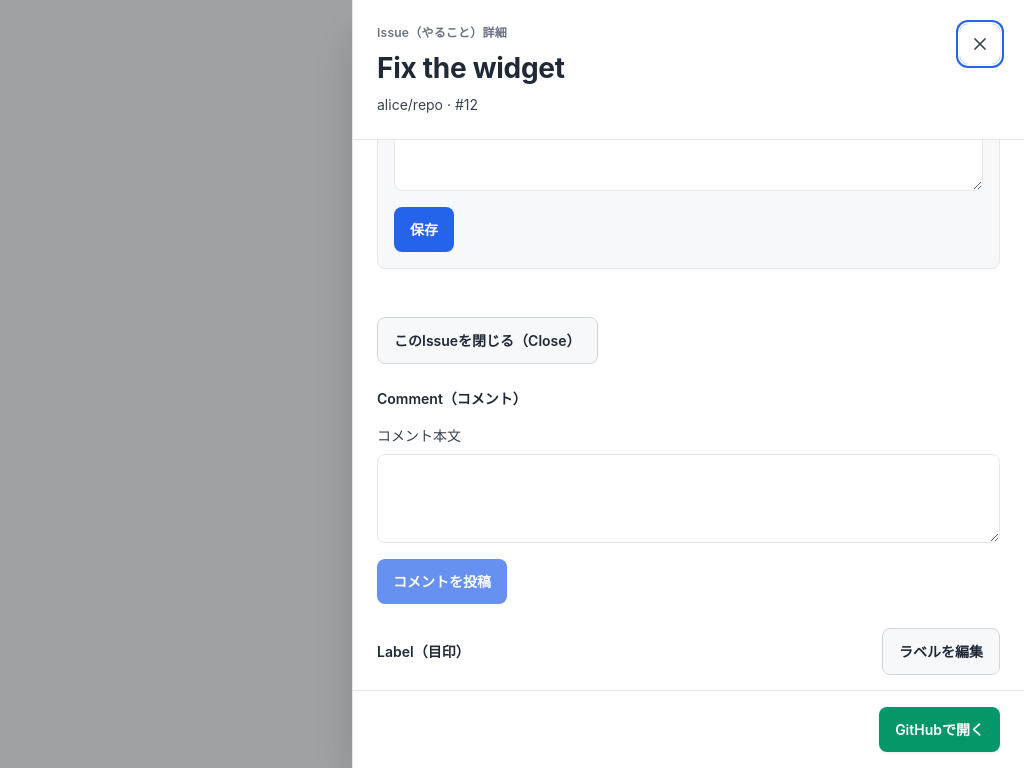
Test: IssueDetailPanel actions › shows an error and disables label saving when label candidates fail
The image size is (1024, 768).
(page scrolled)
Click the button "ラベルを編集".
click(941, 651)  # box [882,628,1000,675]
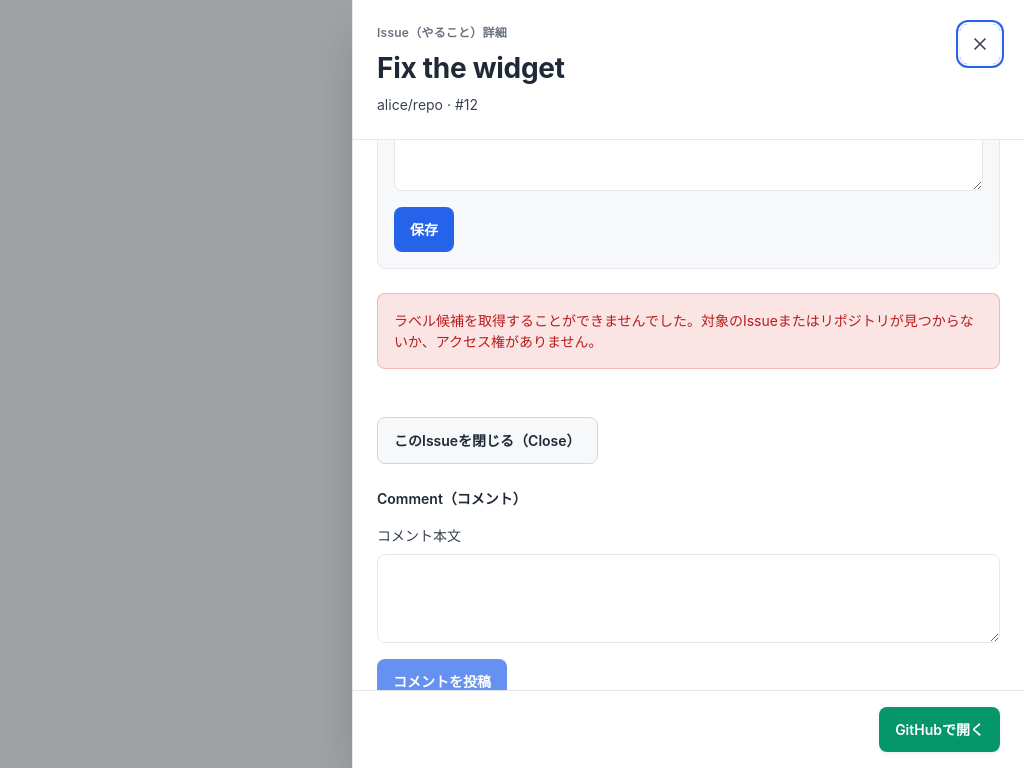
Expected: the message shows "対象のIssueまたはリポジトリが見つからない", [394,312,974,350]
